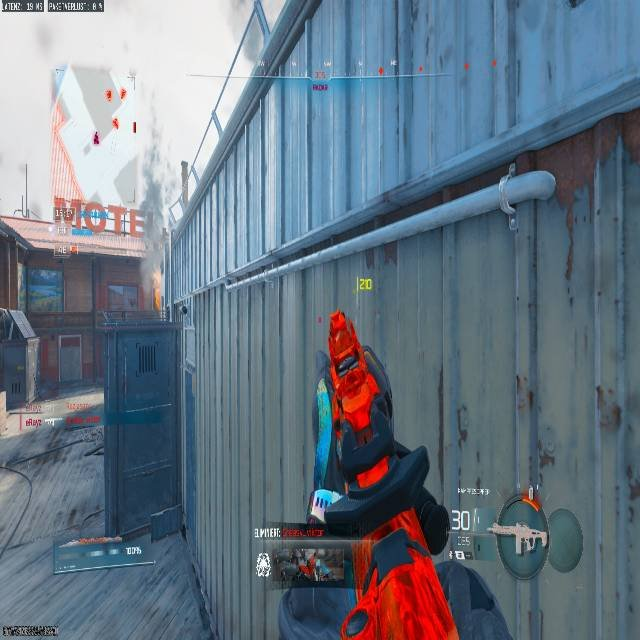head: (327, 312, 358, 362)
player: (266, 314, 531, 640), (319, 312, 397, 473)
